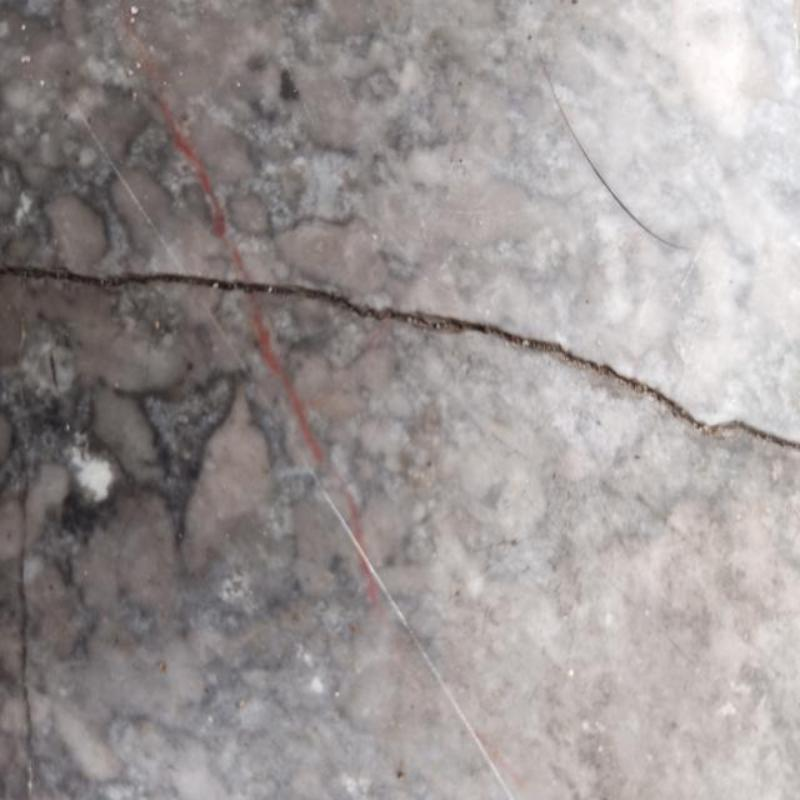pothole: (0, 265, 800, 450)
